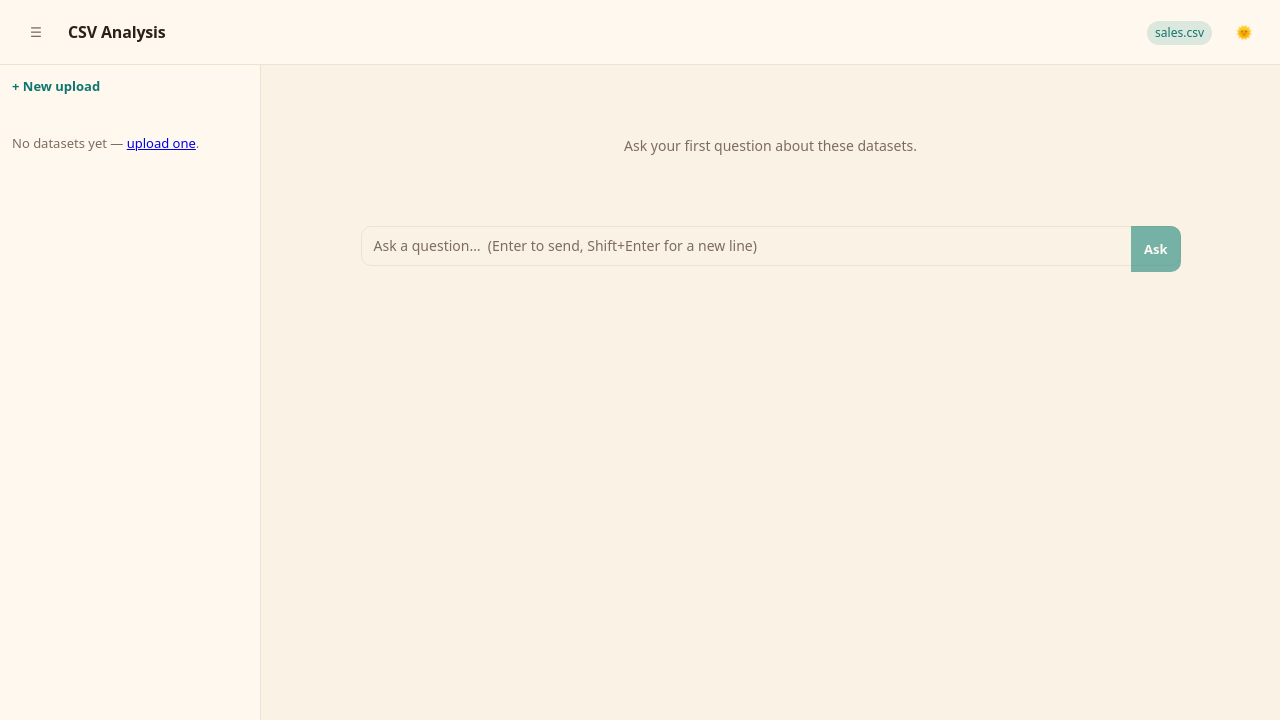
Test: appends the user turn and the returned assistant turn on ask
Expected: the text "sales.csv" is shown, [1147,21,1212,45]
In the text box labelled "question": (770, 246) [360,226,1180,266], type "why is revenue high?"
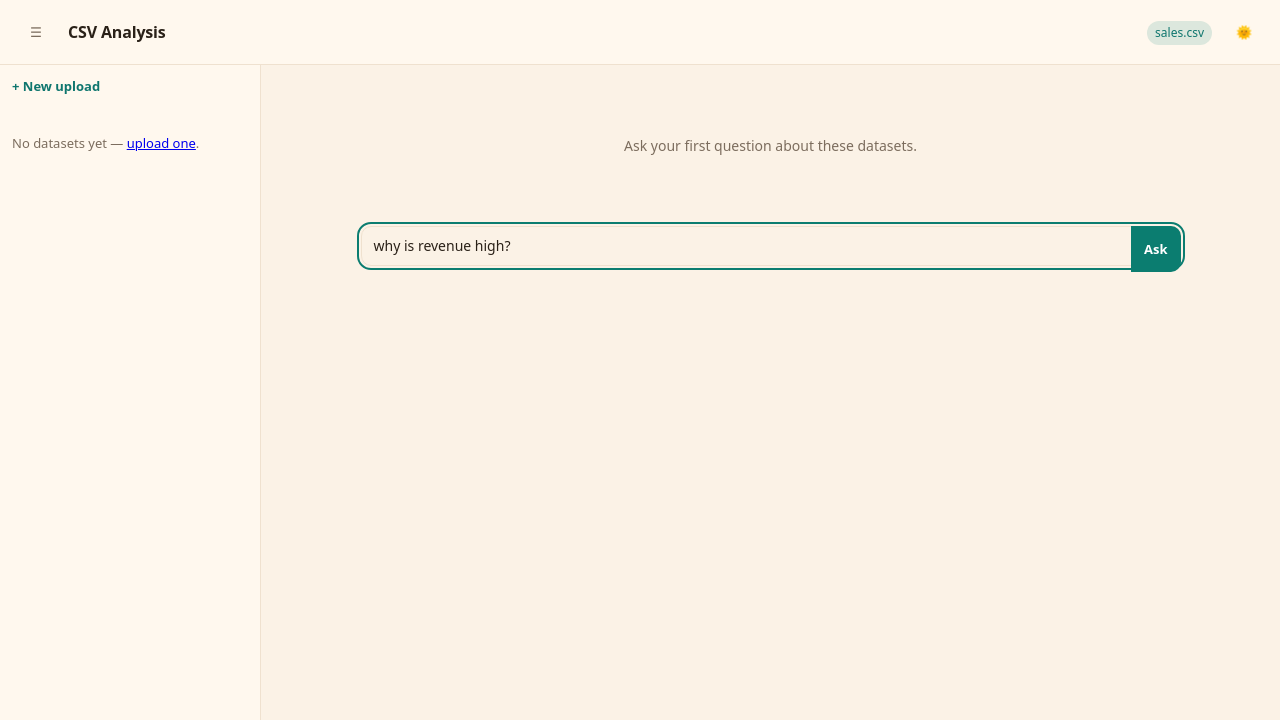
Click the button "Ask": (1156, 249) [1131,226,1180,272]
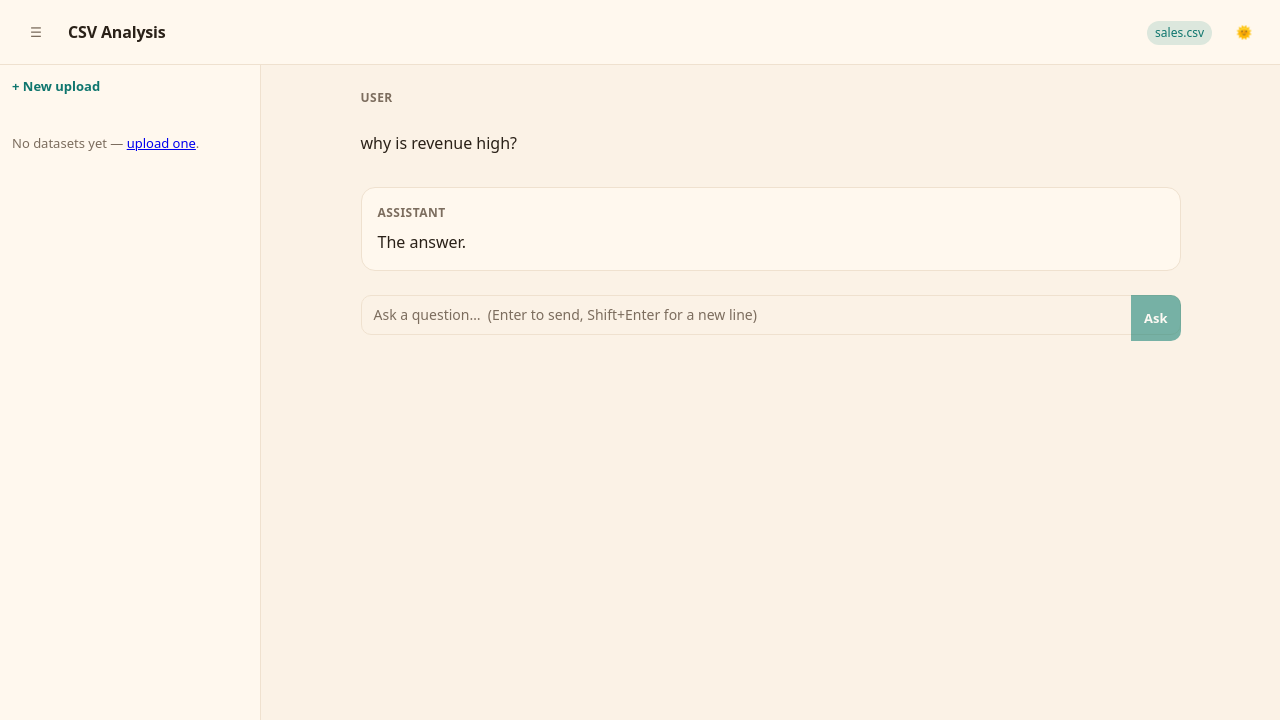
Expected: the text "The answer." is shown, [378,231,466,253]
Expected: the text "why is revenue high?" is shown, [360,132,517,154]
